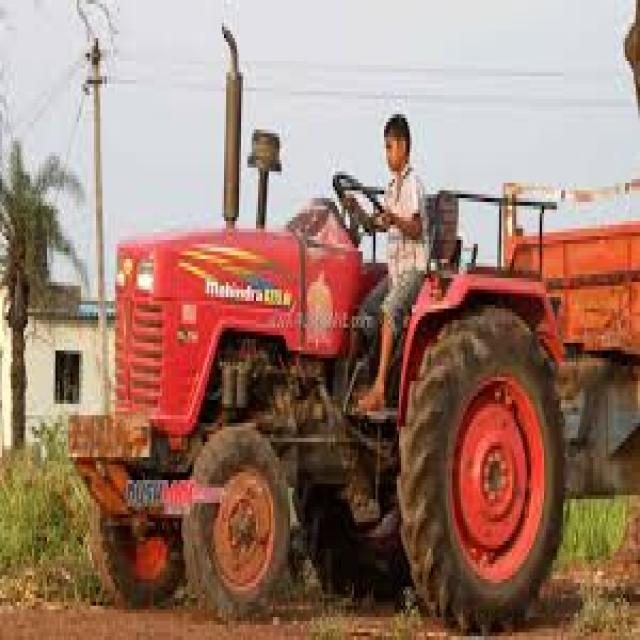person: (346, 114, 427, 411)
tractor: (68, 187, 638, 629)
